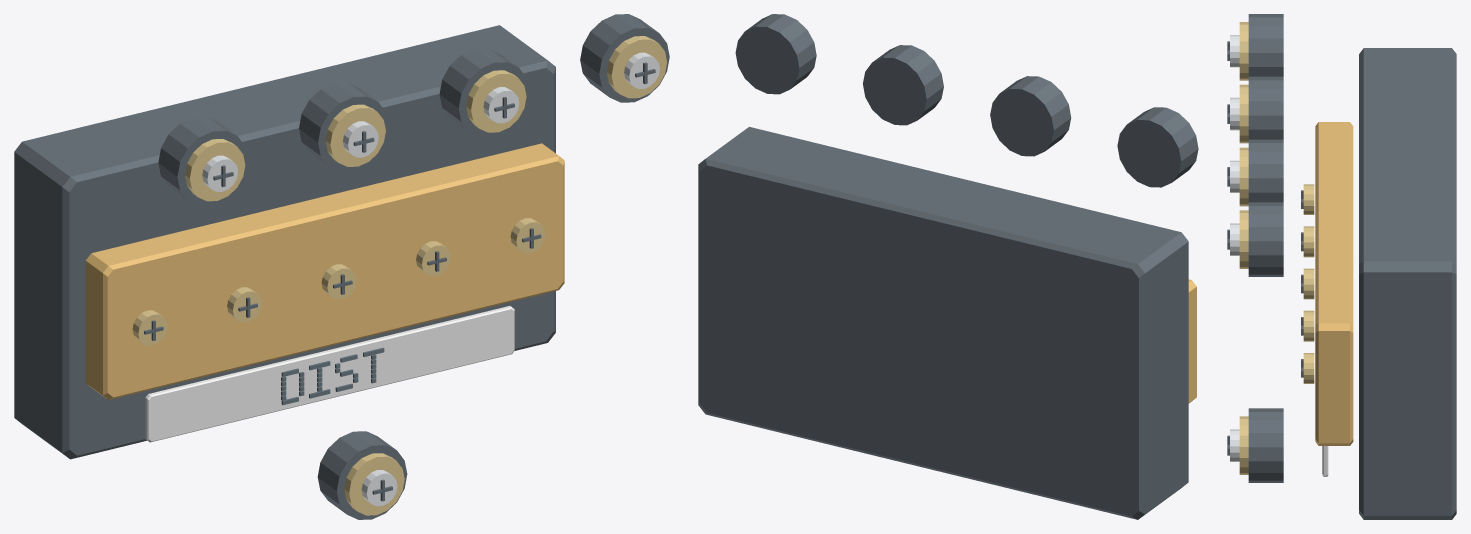
File: distributionBlock.glb
The picture shows the model from 3 angles, left to right: view 1: azimuth 30°, elevation 25°; view 2: azimuth 150°, elevation 25°; view 3: azimuth 270°, elevation 25°; orthographic projection. The views are drawn at different scales.
Parts seen in each view (by area): view 1: distributionBlock-preview; view 2: distributionBlock-preview; view 3: distributionBlock-preview.
Boxes of the visible parts, box(x1,y1,x2,y2) form: distributionBlock-preview: box(14, 14, 669, 519); distributionBlock-preview: box(698, 14, 1198, 519); distributionBlock-preview: box(1227, 14, 1456, 519).
Size of the model in its own units: 2.42 by 1.81 by 0.9644.
